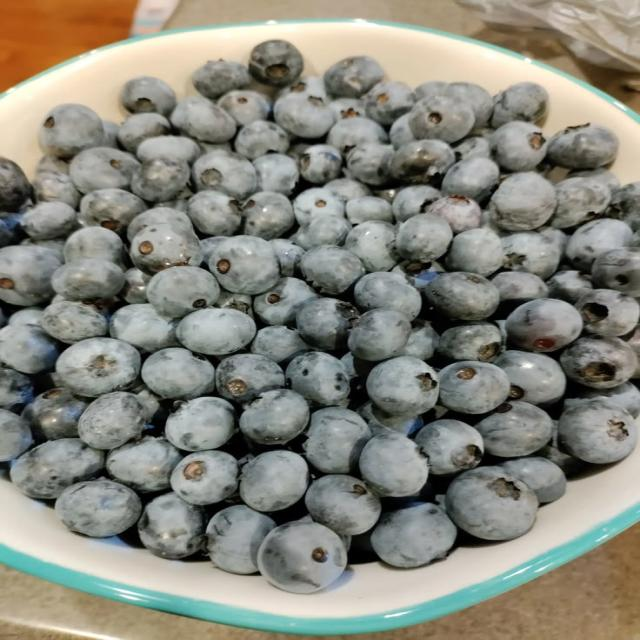blueberry: (445, 467, 538, 540), (258, 522, 346, 593), (10, 439, 104, 499), (371, 503, 457, 568), (559, 399, 637, 463), (56, 338, 140, 397), (55, 480, 141, 537), (207, 505, 275, 574), (305, 475, 380, 535), (304, 407, 372, 473), (138, 493, 205, 559), (360, 431, 428, 496), (475, 401, 552, 457), (367, 356, 438, 414), (507, 298, 583, 352), (240, 451, 308, 511), (210, 236, 279, 295), (107, 437, 181, 492), (494, 350, 566, 406), (560, 337, 637, 388), (489, 172, 555, 231), (78, 392, 146, 449), (415, 419, 484, 474), (240, 389, 309, 444), (166, 397, 236, 451), (141, 348, 215, 399), (147, 266, 219, 318), (0, 245, 61, 306), (177, 308, 256, 355), (439, 361, 509, 414), (130, 224, 202, 275), (565, 218, 632, 272), (170, 451, 238, 504), (423, 272, 499, 319), (216, 354, 285, 404), (286, 352, 349, 406), (40, 104, 104, 157), (22, 388, 87, 440), (192, 152, 262, 200), (109, 304, 179, 352), (295, 298, 359, 350), (348, 309, 411, 361), (300, 245, 365, 295), (547, 124, 619, 169), (70, 147, 139, 193), (409, 95, 475, 143), (550, 177, 611, 228), (500, 456, 566, 503), (170, 96, 236, 143), (52, 258, 124, 301), (354, 273, 421, 319), (254, 278, 318, 325), (576, 289, 639, 336), (79, 189, 146, 233), (41, 301, 108, 344), (0, 325, 58, 374), (390, 140, 454, 184), (446, 228, 504, 276), (395, 213, 453, 261), (274, 93, 334, 139), (345, 221, 399, 272), (491, 121, 546, 171), (502, 232, 560, 279), (442, 157, 499, 204), (564, 382, 639, 417), (187, 189, 242, 236), (64, 226, 125, 268), (132, 158, 190, 202), (251, 326, 313, 367), (491, 83, 548, 127), (242, 192, 294, 240), (249, 40, 303, 86), (244, 153, 299, 198), (324, 56, 384, 97), (438, 322, 501, 361), (443, 82, 493, 131), (592, 247, 639, 297), (327, 117, 387, 155), (192, 60, 250, 99), (127, 208, 193, 242), (234, 120, 289, 159), (358, 403, 423, 436), (21, 202, 77, 240), (120, 77, 176, 115), (118, 113, 171, 153), (426, 196, 481, 233), (294, 187, 345, 226), (347, 143, 393, 186), (218, 90, 271, 126), (295, 217, 352, 250), (136, 135, 200, 164), (392, 185, 442, 222), (200, 235, 230, 295), (491, 272, 549, 303), (299, 144, 342, 184), (0, 409, 33, 461), (34, 172, 81, 208), (398, 320, 439, 361), (0, 157, 30, 211), (392, 261, 446, 291), (547, 270, 593, 303), (0, 368, 33, 412), (609, 182, 639, 230), (269, 238, 305, 276), (133, 383, 166, 423), (346, 196, 393, 224), (568, 168, 619, 193), (214, 289, 254, 319), (325, 177, 372, 202), (277, 76, 327, 98), (454, 136, 491, 161), (389, 113, 415, 148), (538, 226, 568, 254), (20, 238, 64, 257), (0, 214, 22, 248), (35, 155, 69, 175), (7, 307, 43, 325), (415, 81, 447, 99), (102, 120, 119, 148), (198, 141, 233, 153)
